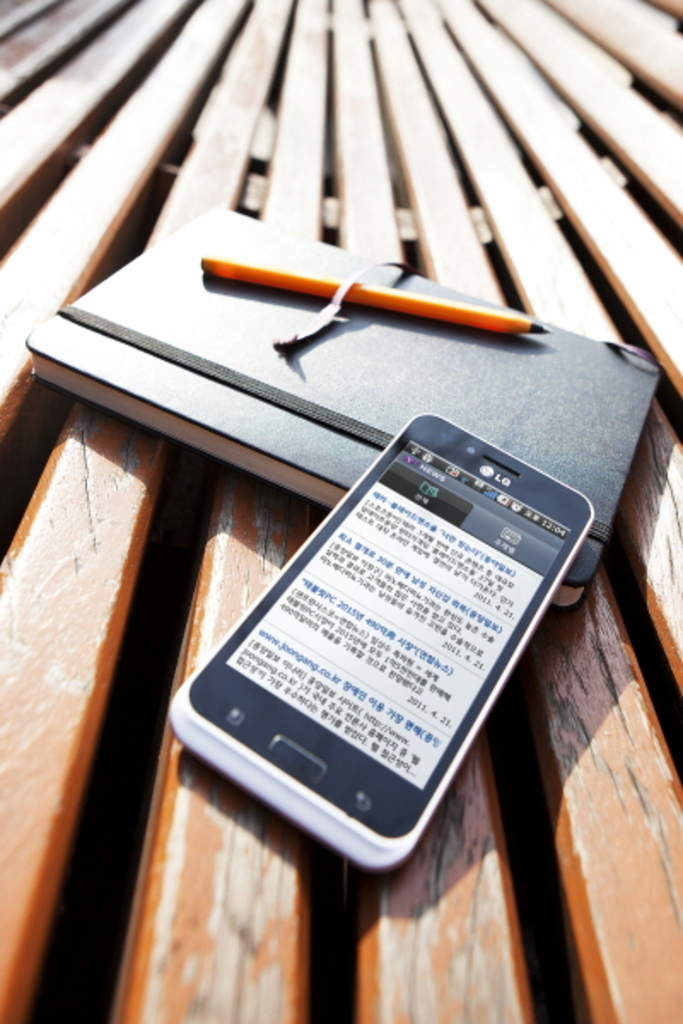mobile phone: (157, 399, 636, 880)
